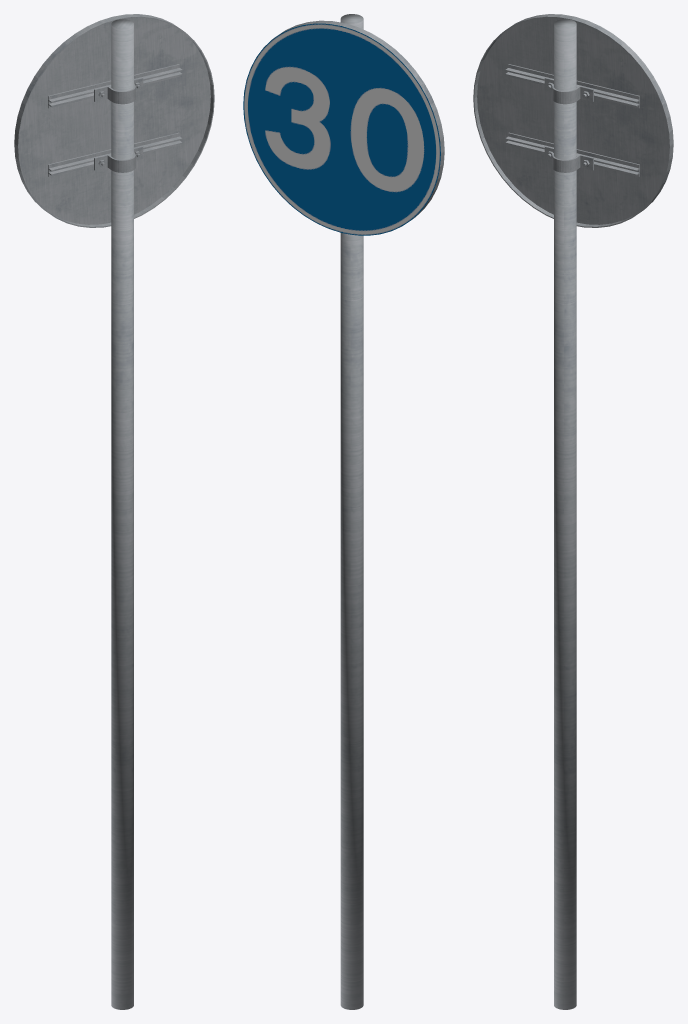
The model's file is Minimum_speed_limit_30.fbx.
The picture shows the model from 3 angles, left to right: view 1: azimuth 30°, elevation 25°; view 2: azimuth 150°, elevation 25°; view 3: azimuth 330°, elevation 25°; orthographic projection.
Visible parts, largest first — view 1: Minimum speed limit 30; view 2: Minimum speed limit 30; view 3: Minimum speed limit 30.
Boxes of the visible parts, box(x1,y1,x2,y2) form: Minimum speed limit 30: box(14, 14, 214, 1009); Minimum speed limit 30: box(243, 14, 444, 1009); Minimum speed limit 30: box(473, 14, 673, 1009).
Bounding box in the file's own units: 0.0876 × 0.6 × 2.86.
